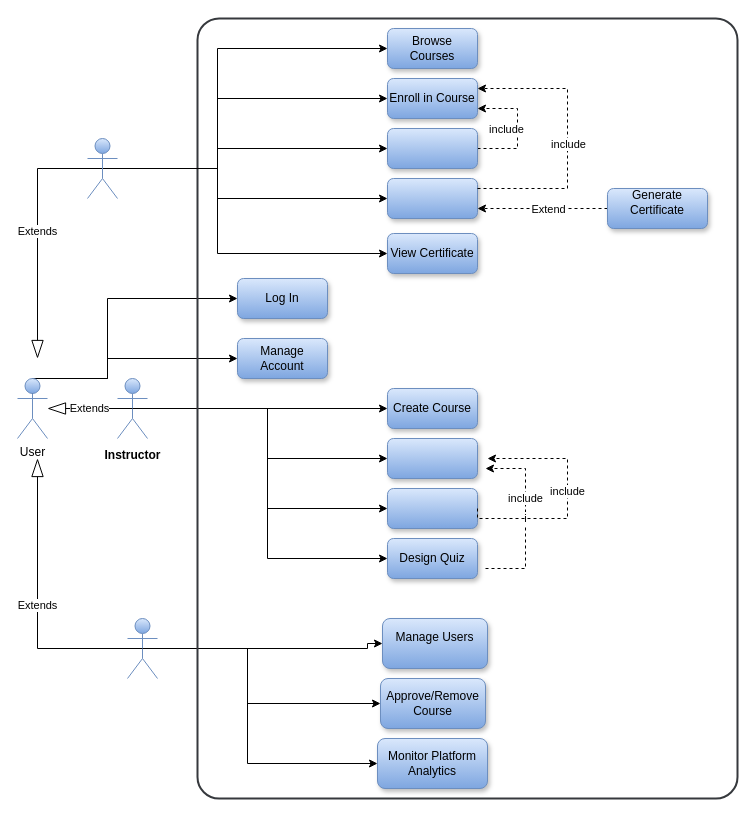
Some shapes in this 756 by 816 pixel diagram are drawn without their labels. The shapes that lost their labels are listed below. From the top down, each one's centre as x and y in pixels, then its label:
(102,168): Student
(433,150): Complete Lesson
(433,200): Complete Quiz
(433,460): Manage Courses
(433,510): Upload Lesson
(142,648): Admin
